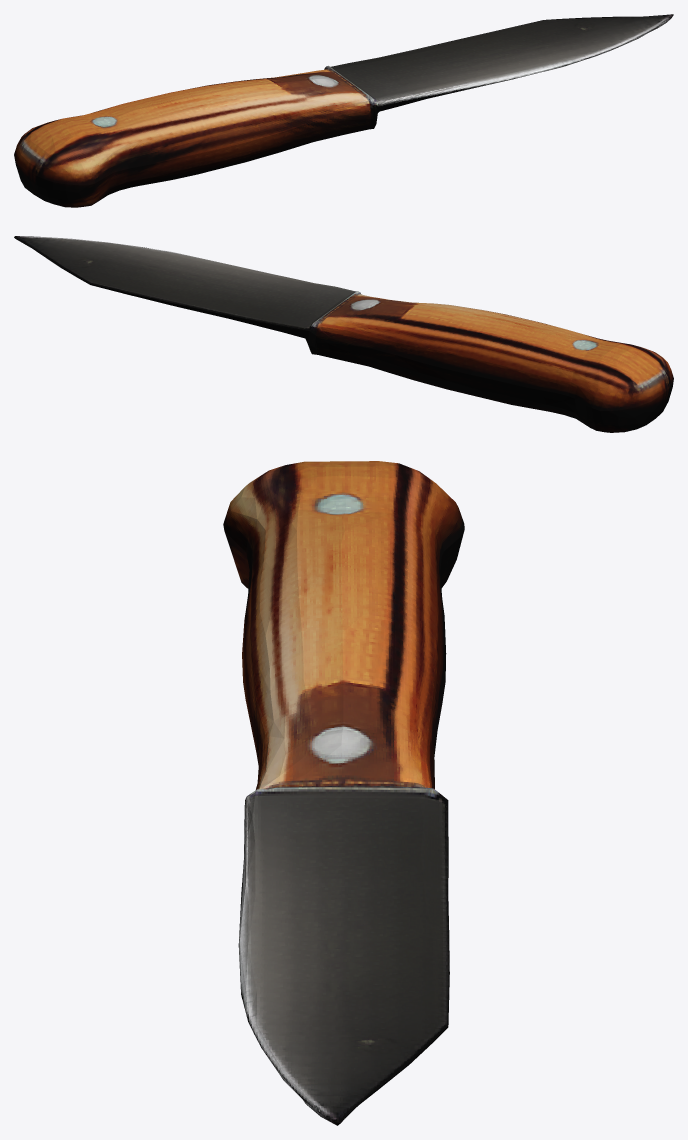
The model's file is wooden-knife-handle-vintage.jpeg.glb.
The picture shows the model from 3 angles, top to bottom: view 1: azimuth 30°, elevation 25°; view 2: azimuth 150°, elevation 25°; view 3: azimuth 270°, elevation 25°; orthographic projection. The views are drawn at different scales.
Visible parts, largest first — view 1: world; view 2: world; view 3: world.
Part boxes in pixels (<box>): world: <box>14,14,673,207</box>; world: <box>14,236,673,432</box>; world: <box>223,461,464,1125</box>.
Size of the model in its own units: 1 by 0.1028 by 0.1619.
Materials: 1 (1 with a texture image).
